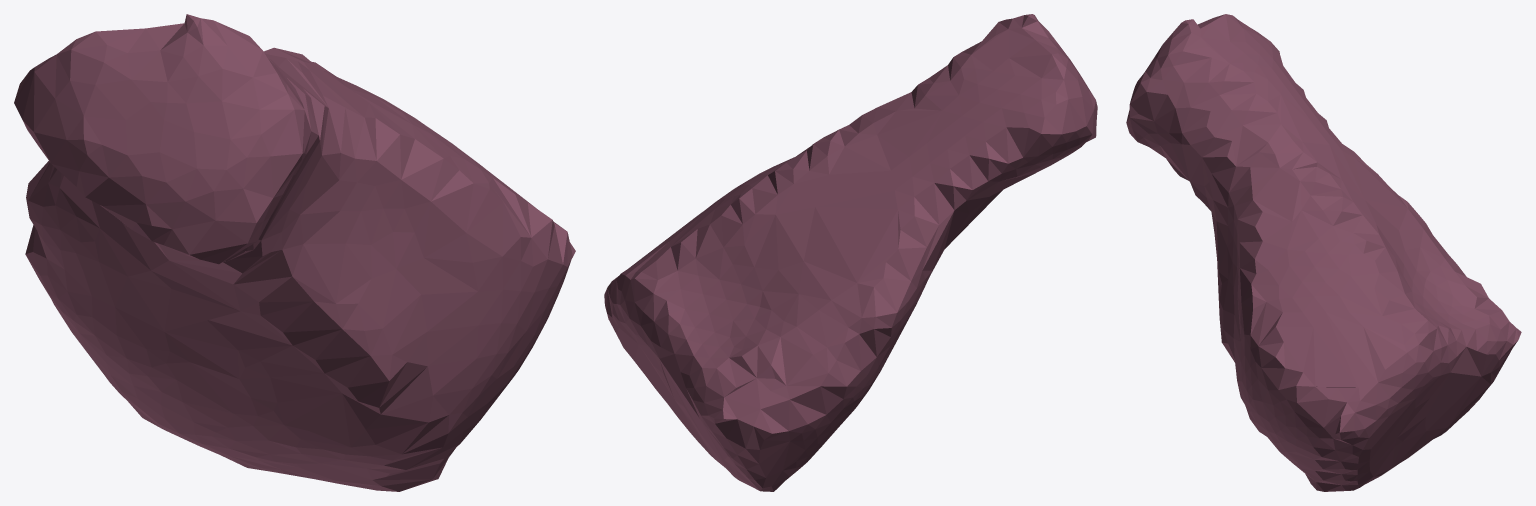
Rendered from Model_10032_LH__Area_4_of_cortex__part_c_(primary_motor)_(A4c).obj.
3 renders of one model, left to right at view 1: azimuth 30°, elevation 25°; view 2: azimuth 150°, elevation 25°; view 3: azimuth 270°, elevation 25°, orthographic. The views are drawn at different scales.
Size of the model in its own units: 1.88 by 1.84 by 1.73.
